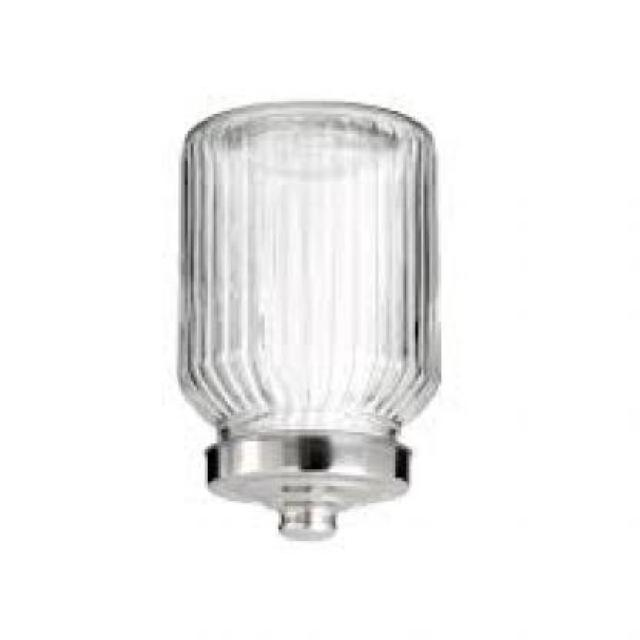GLASS: (182, 102, 444, 447)
METAL: (208, 439, 412, 543)
